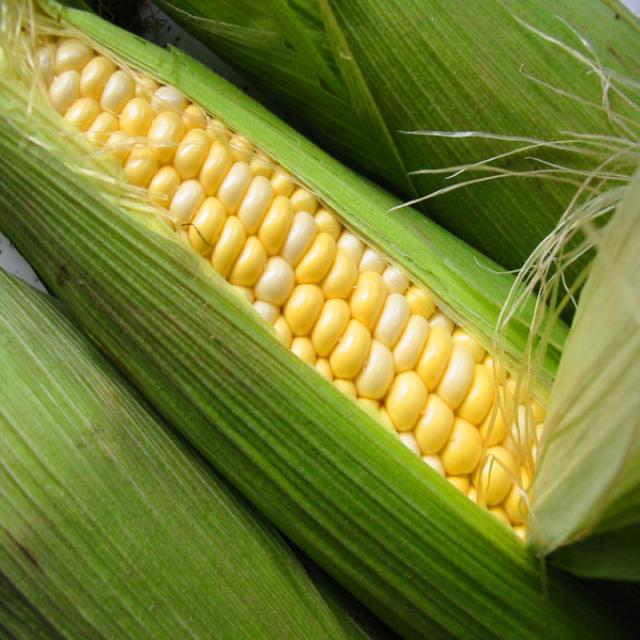corn: (2, 10, 634, 640)
